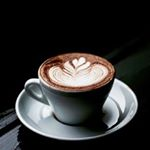cups: (24, 52, 117, 128)
